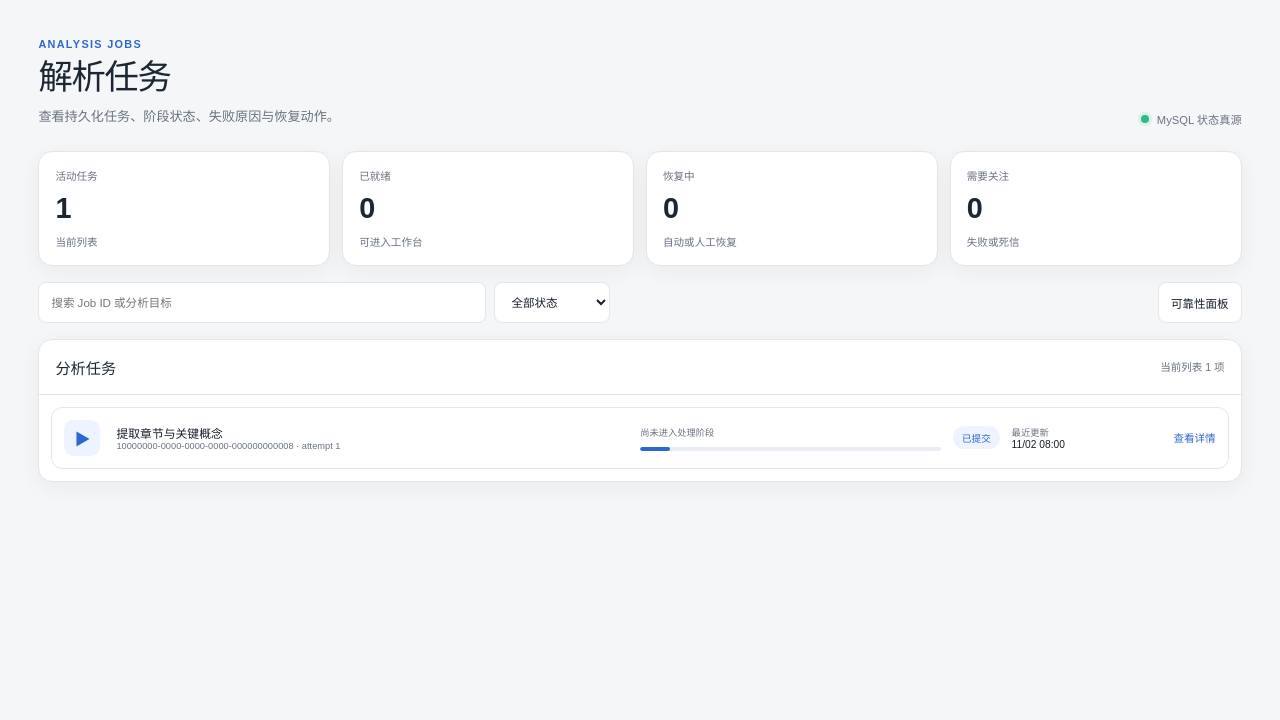
Test: AnalysisJobsPage › cancels through the server link and announces the resulting state
Click the button with test id "open-job".
click(640, 438)  # box [51,407,1229,469]
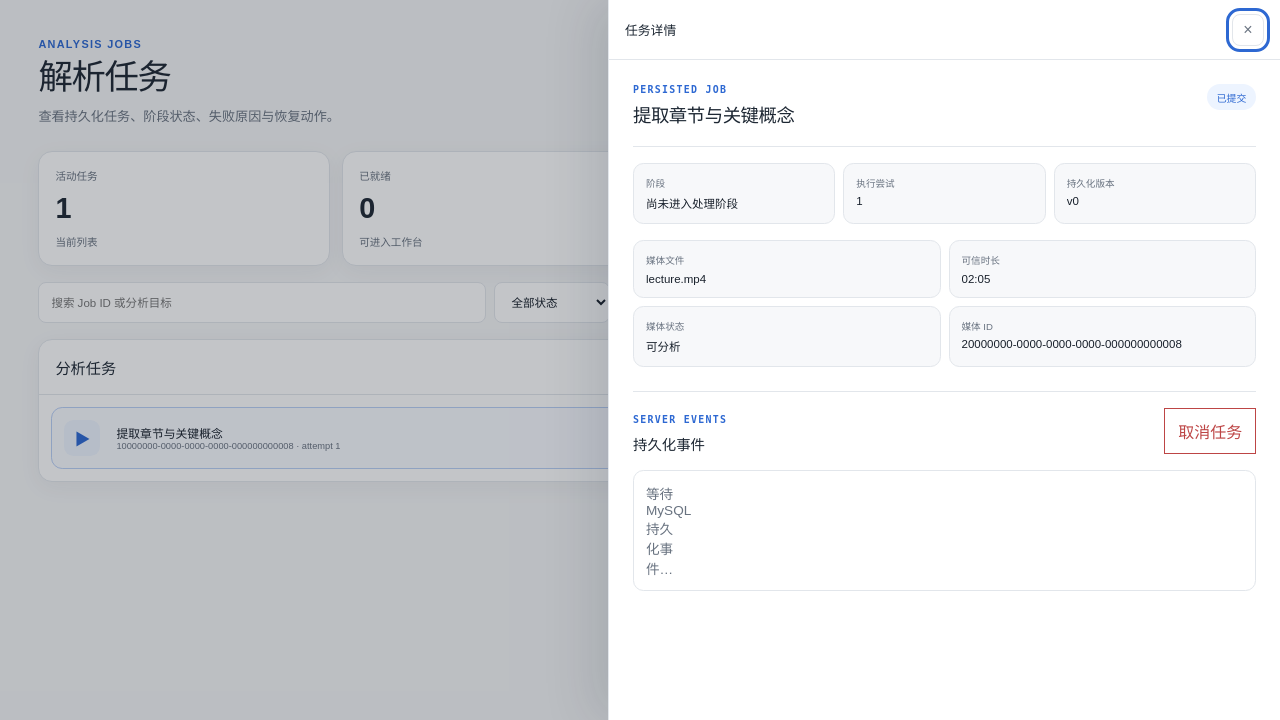
Check: the element with test id "job-detail-drawer" is shown
Click the button with test id "cancel-job".
click(1210, 431)  # box [1164,408,1256,454]
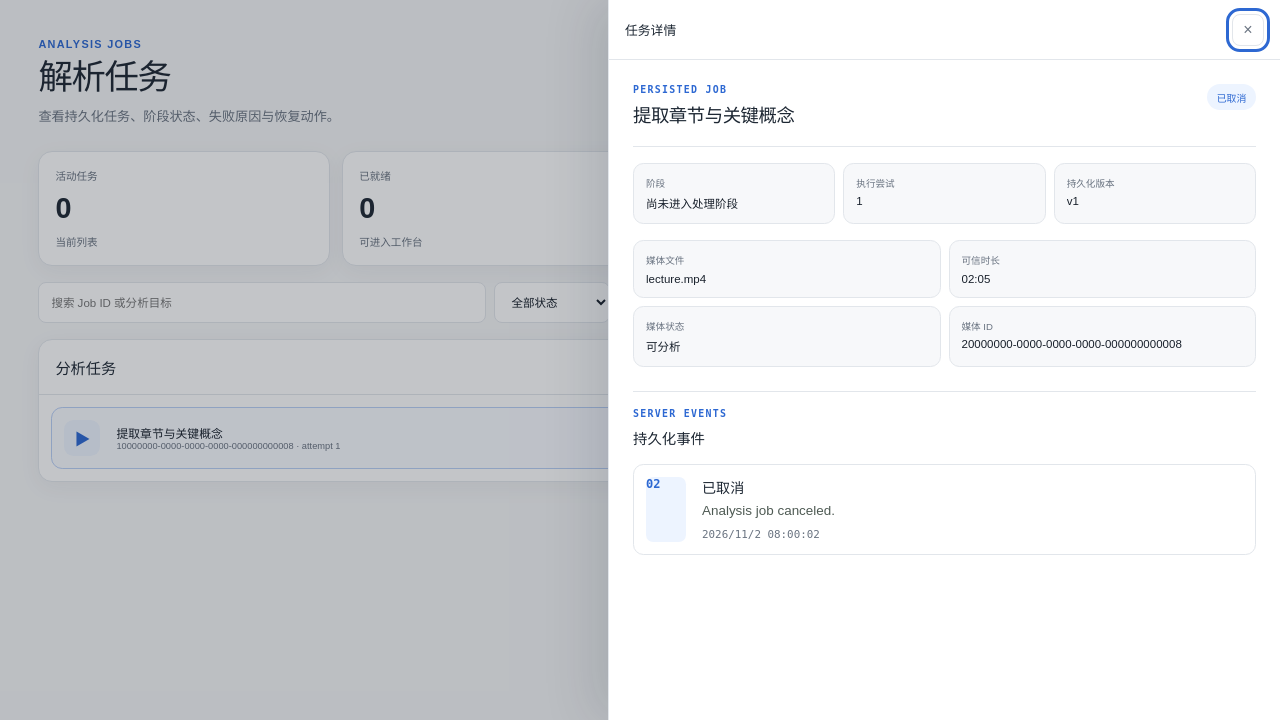
Check: the text with test id "job-status" reads "已取消", box [1217,93,1246,104]
